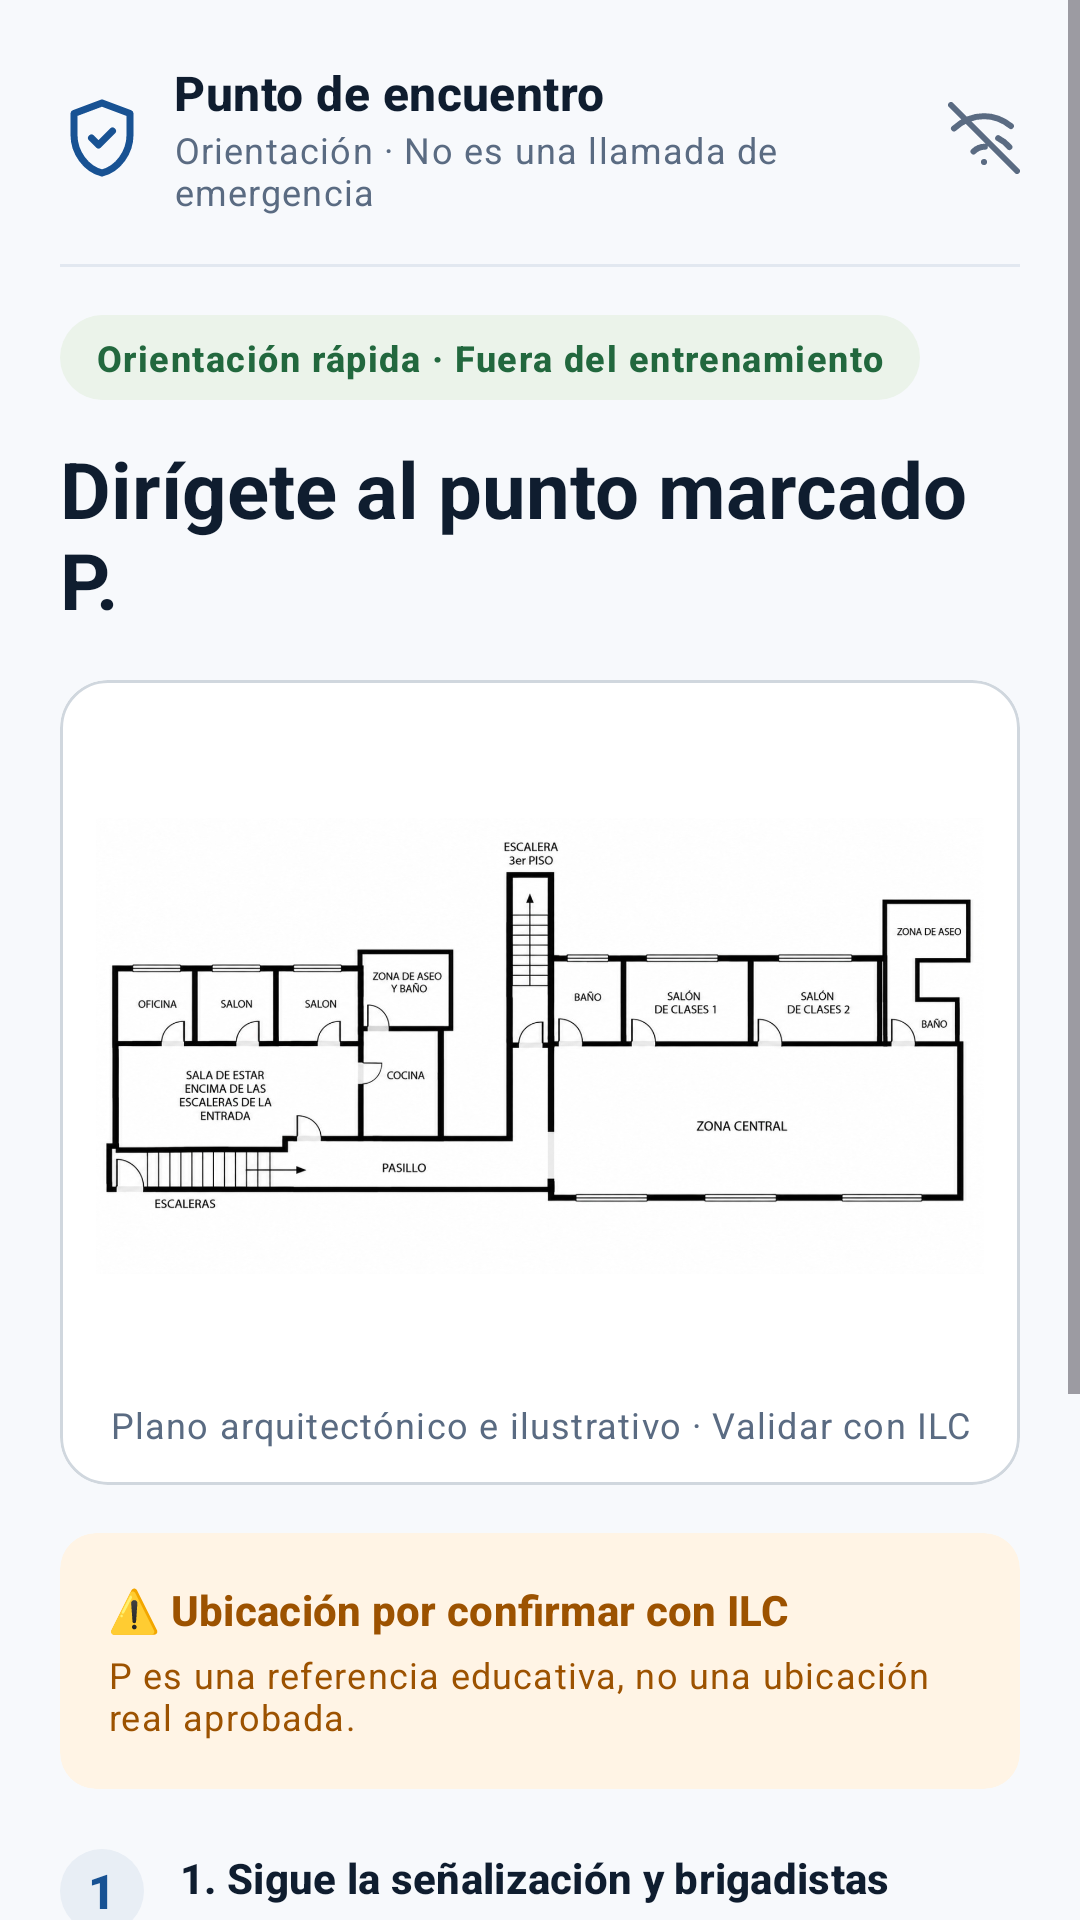

Icon click points for this 1080×1920 phone screenshot, format (x=x, y=y):
Entrenamiento sin internet: (x=984, y=138)
